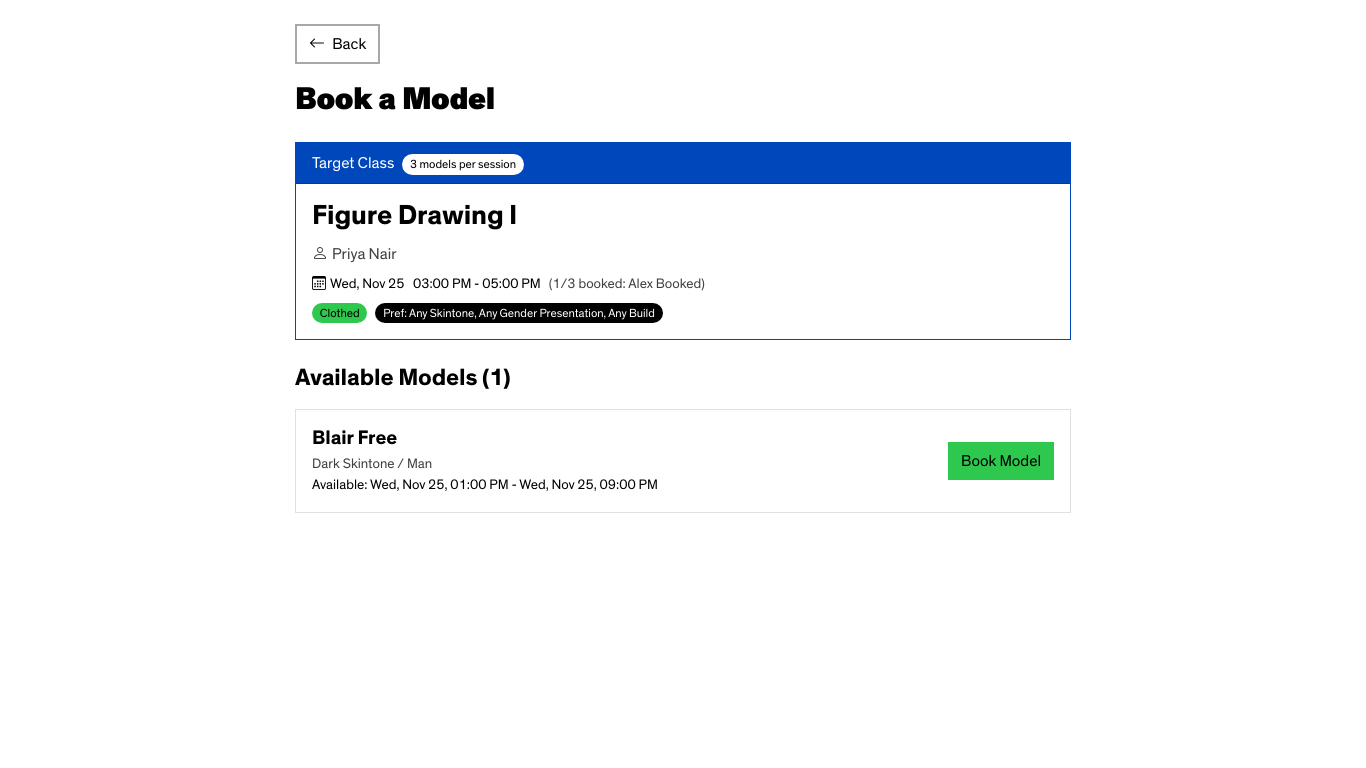
GigCreator (matching screen) › stays open after a booking when the class still needs more models
Click the button "Book Model": (1001, 461) [948, 442, 1054, 480]
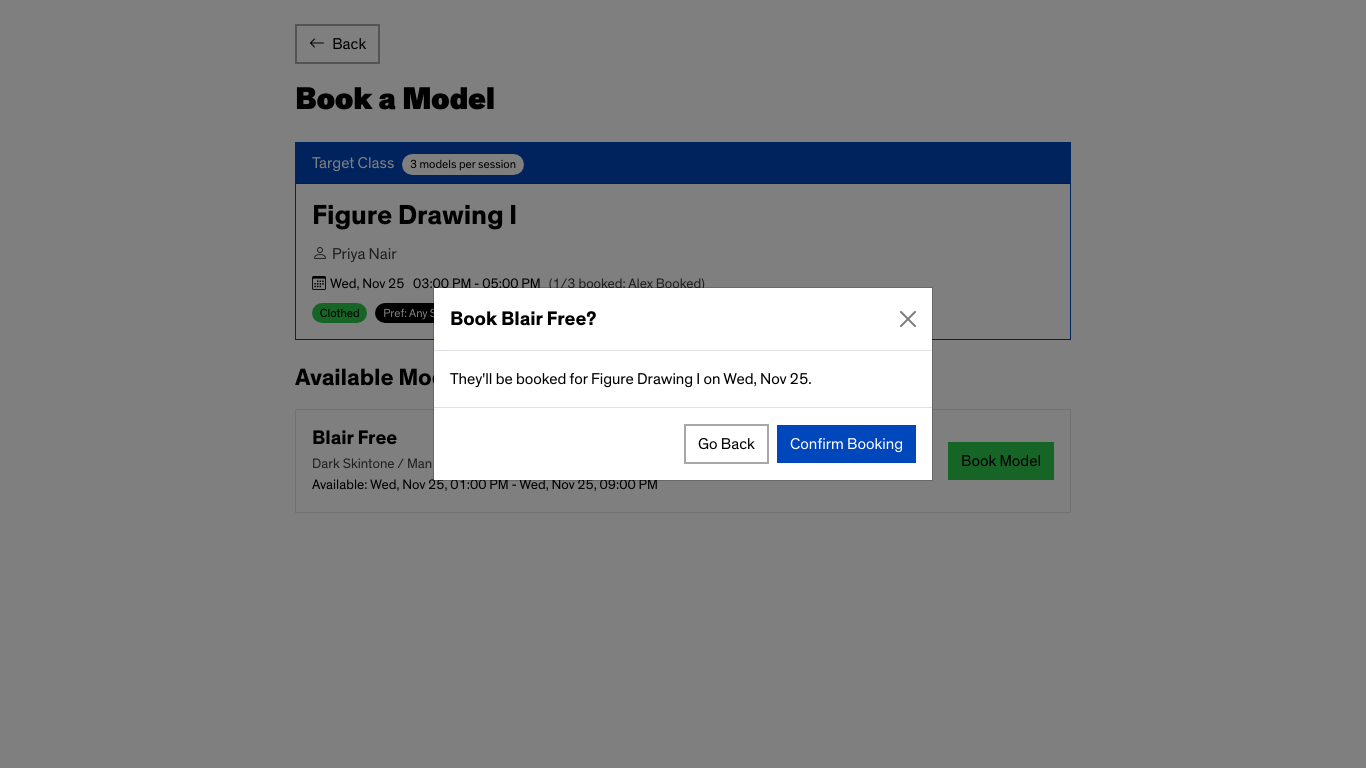
Click the button "Confirm Booking": (846, 444) [777, 425, 916, 463]
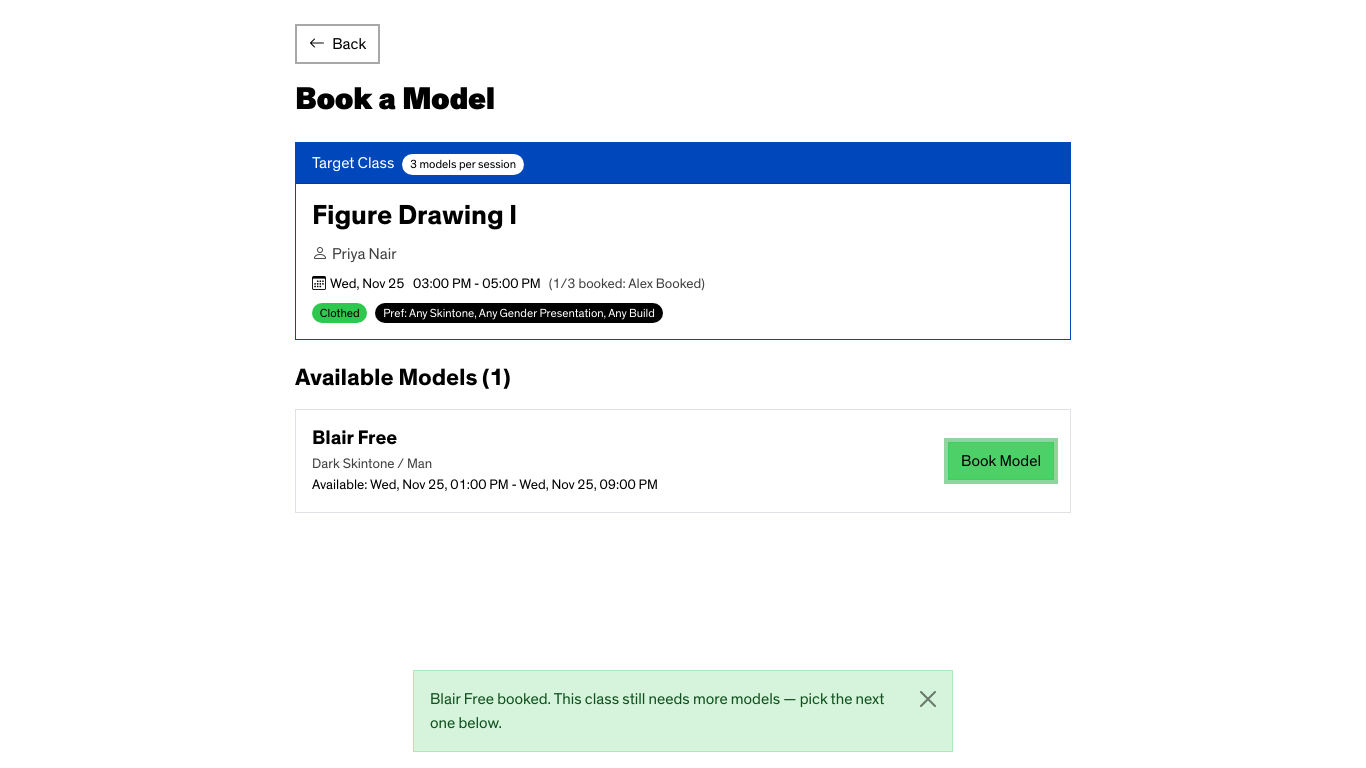
Now the text "still needs more models" is shown, box [430, 691, 884, 731]
